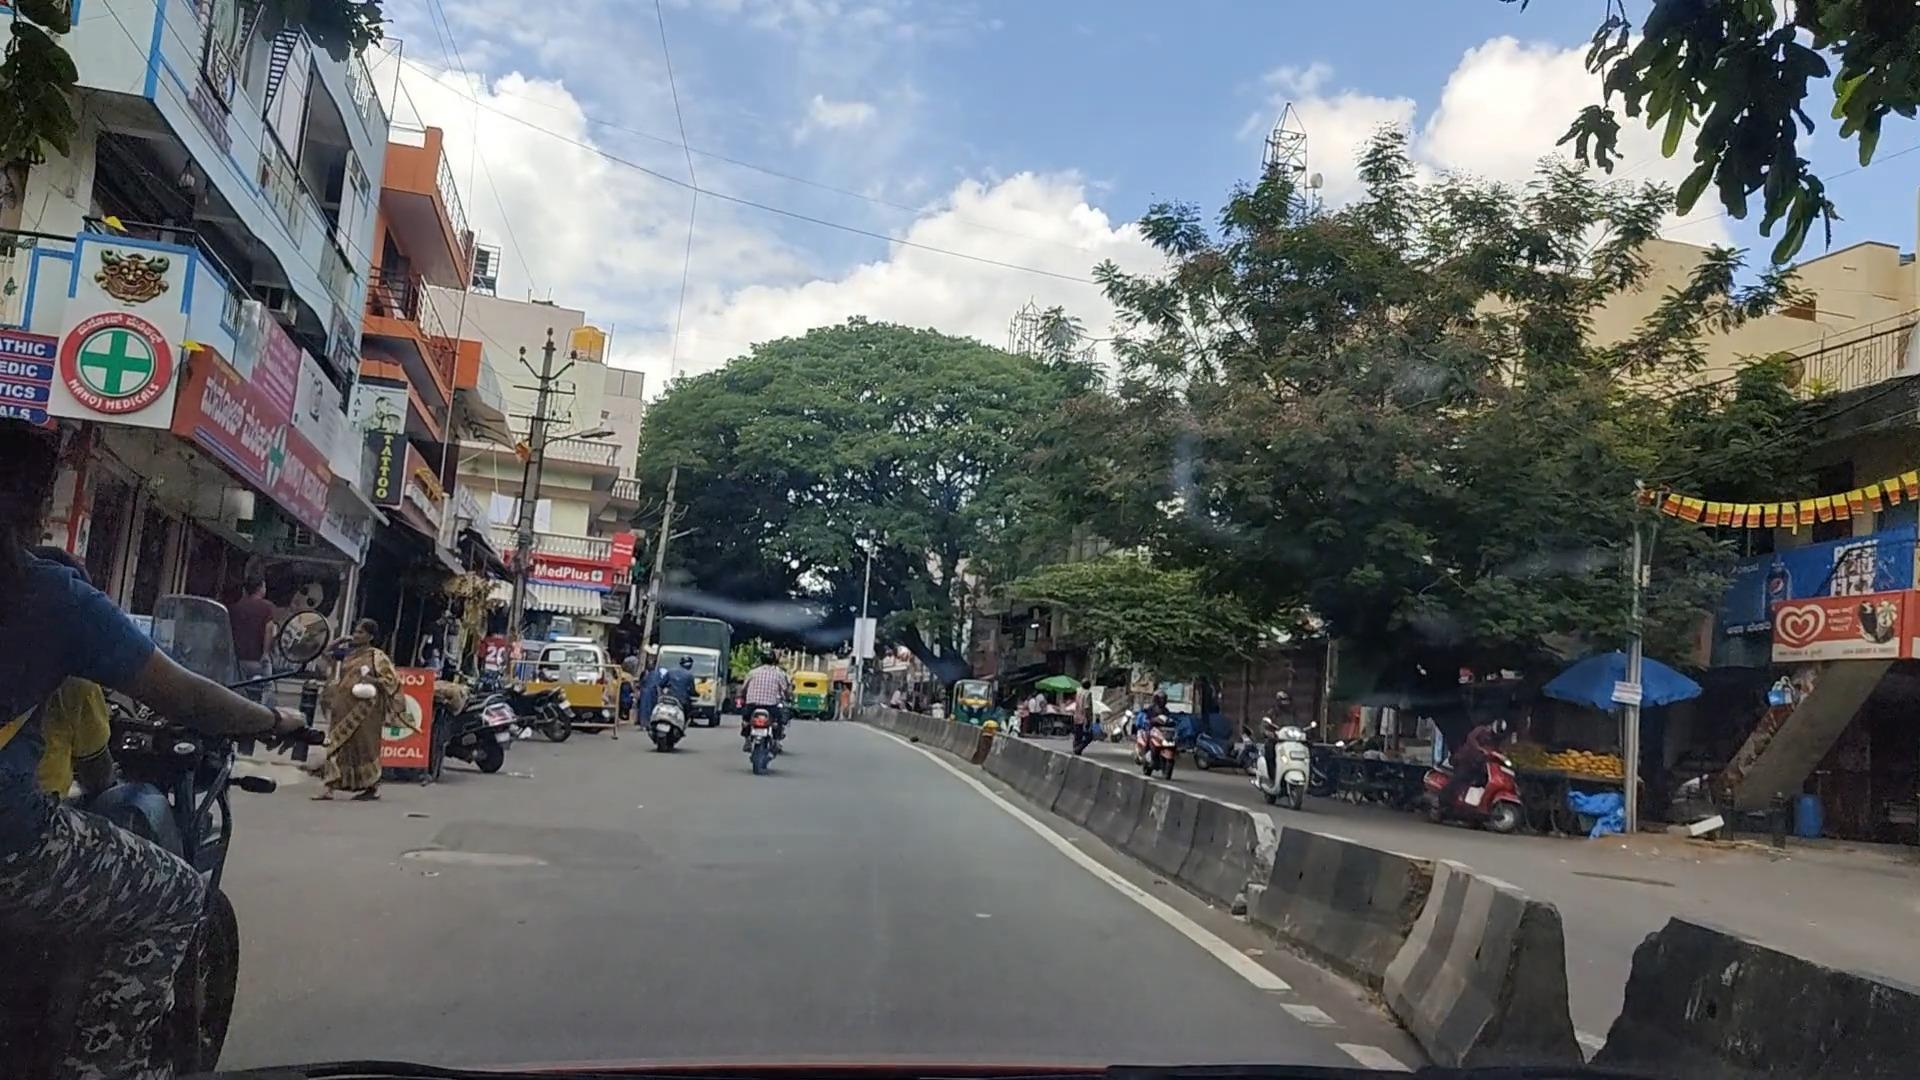LMV: (0, 418, 241, 1080)
RoadDamages: (371, 825, 595, 902)
